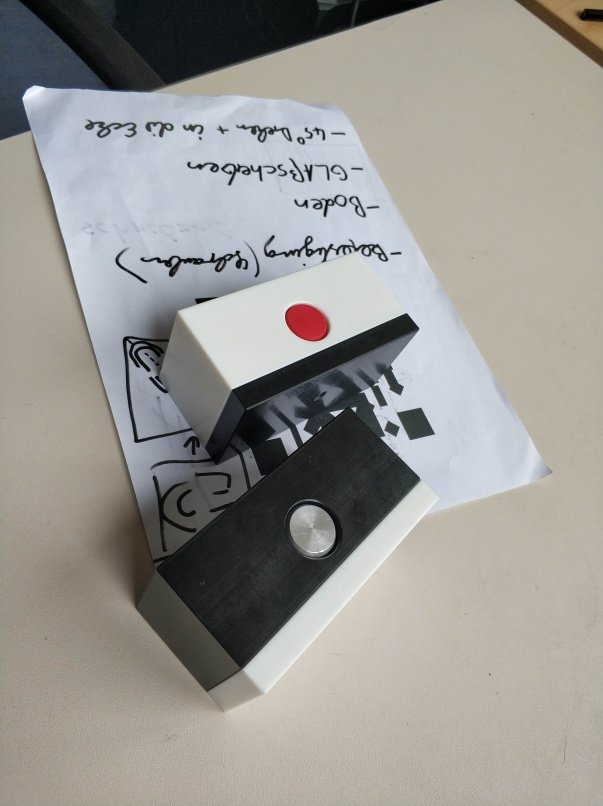black+white+red: (156, 246, 426, 465)
white+black+silver: (128, 402, 444, 714)
